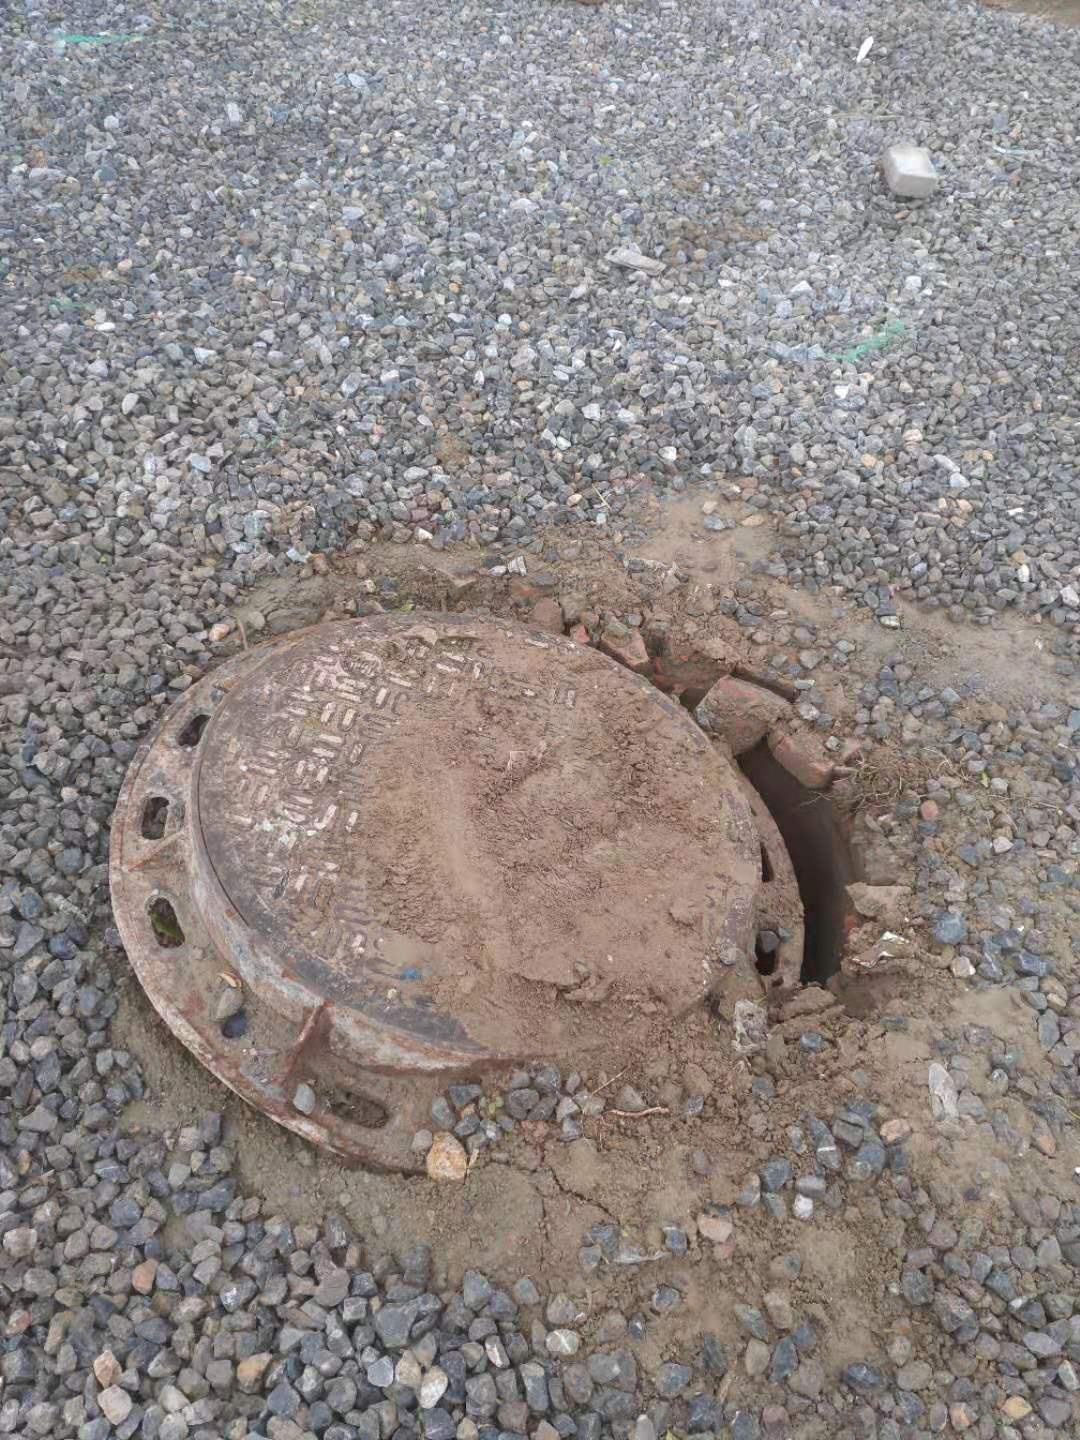uncovered: (106, 604, 879, 1188)
